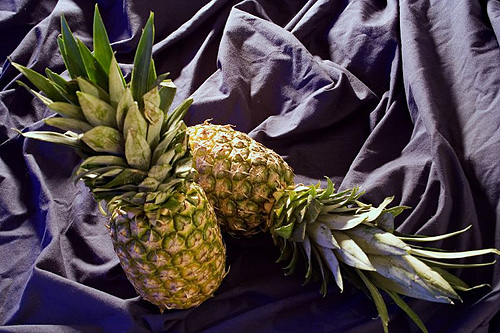pineapple: (188, 116, 499, 332), (11, 4, 231, 309)
